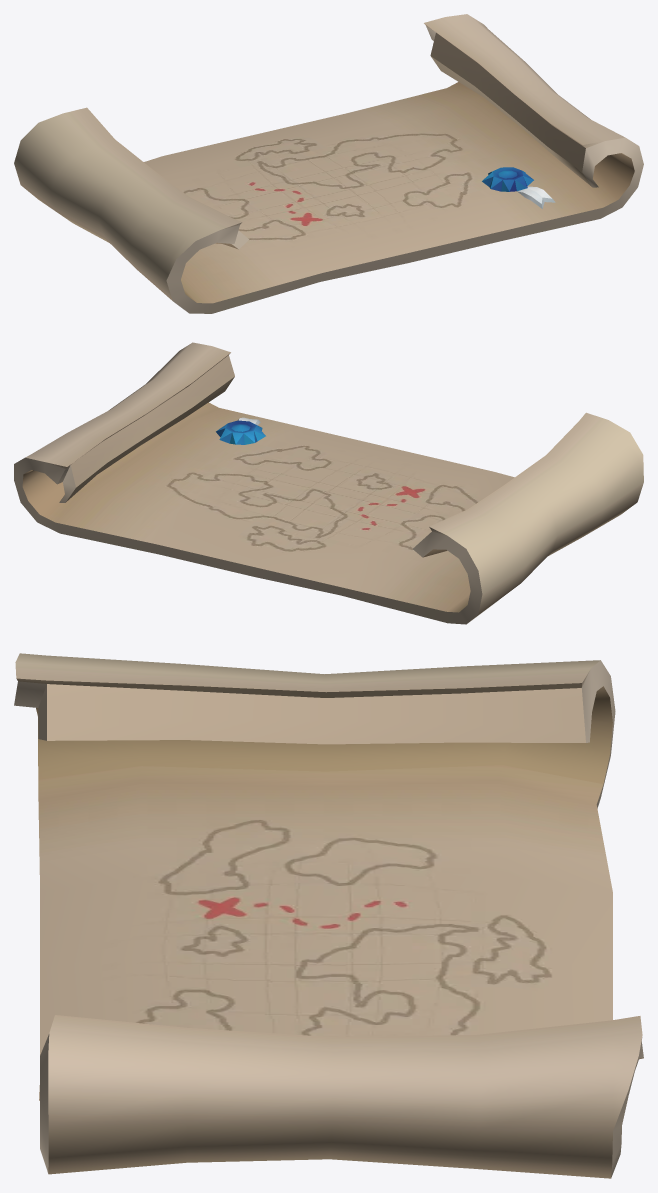
Rendered from karta.glb.
3 views of the same model, one above another, from view 1: azimuth 30°, elevation 25°; view 2: azimuth 150°, elevation 25°; view 3: azimuth 270°, elevation 25° (orthographic). The views are drawn at different scales.
Parts seen in each view (by area): view 1: map; view 2: map; view 3: map.
Part boxes in pixels (x1=…): map: x1=14, y1=14, x2=643, y2=313; map: x1=14, y1=342, x2=643, y2=624; map: x1=14, y1=653, x2=643, y2=1178.
Size of the model in its own units: 1.94 by 0.3548 by 1.22.
2 materials, 2 textured.
